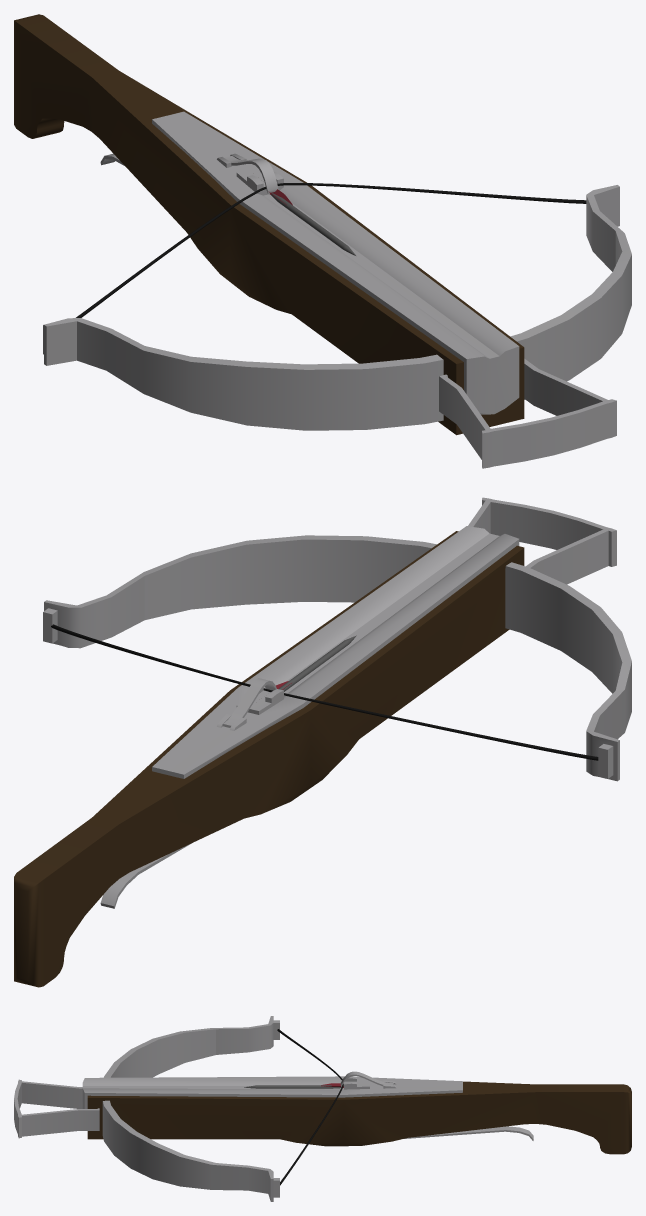
The model's file is crossbow.fbx.
The picture shows the model from 3 angles, top to bottom: view 1: azimuth 30°, elevation 25°; view 2: azimuth 150°, elevation 25°; view 3: azimuth 270°, elevation 25°; orthographic projection. The views are drawn at different scales.
Parts seen in each view (by area): view 1: crossbow, string, bolt; view 2: crossbow, string; view 3: crossbow, string, bolt.
Boxes of the visible parts, x1,y1,x2,y2 form: crossbow: [14, 14, 631, 468]; string: [76, 183, 586, 317]; bolt: [268, 189, 355, 255]; crossbow: [14, 497, 631, 987]; string: [51, 624, 598, 760]; crossbow: [14, 1016, 631, 1201]; string: [277, 1029, 343, 1185]; bolt: [244, 1083, 343, 1088].
Bounding box in the file's own units: 100 × 22.17 × 160.
